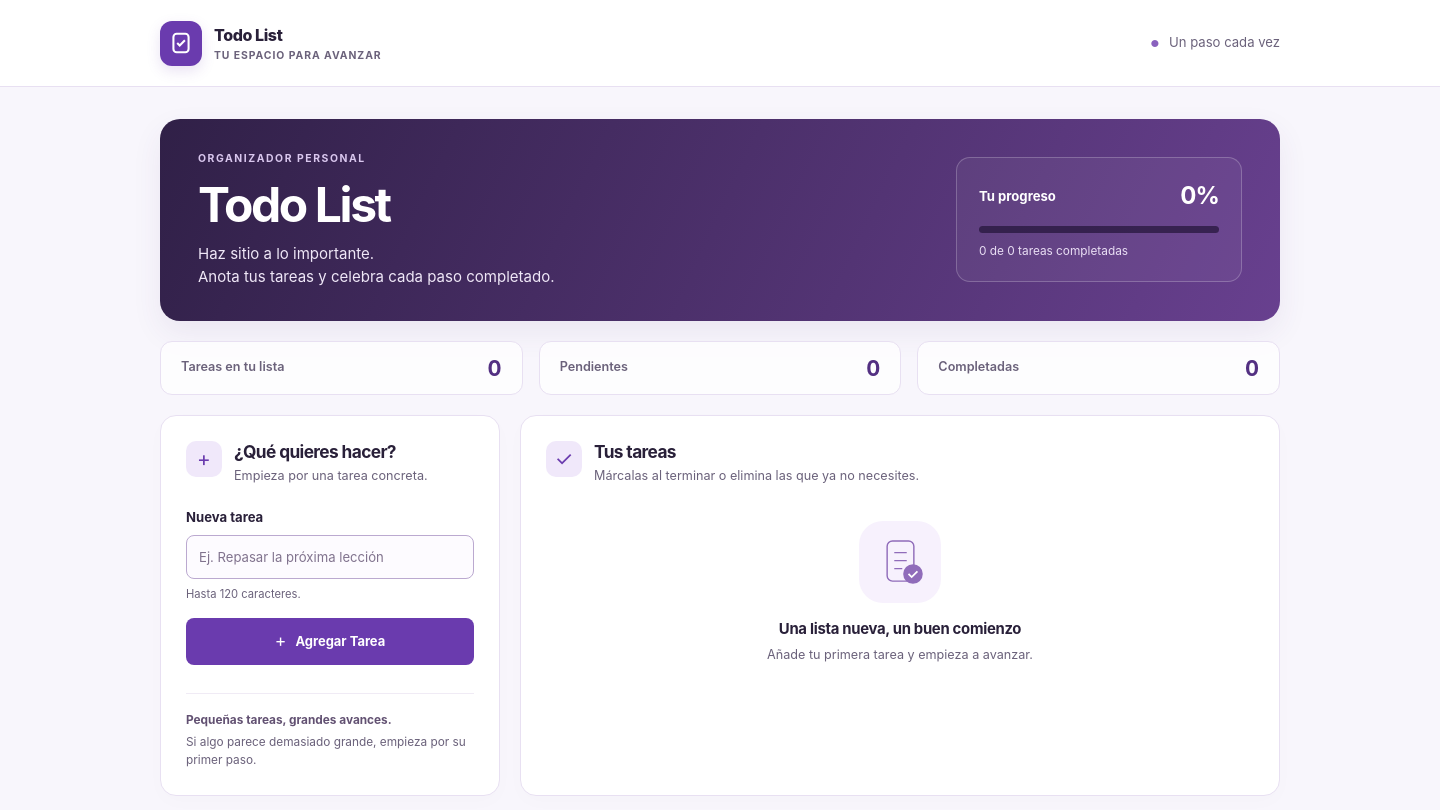
Test: TodoApp · integración entre formulario, estado y lista › completa una tarea concreta y elimina sin afectar a la otra
In the field labelled "Nueva tarea": (330, 557) [186,535,474,579], type "Primera tarea"
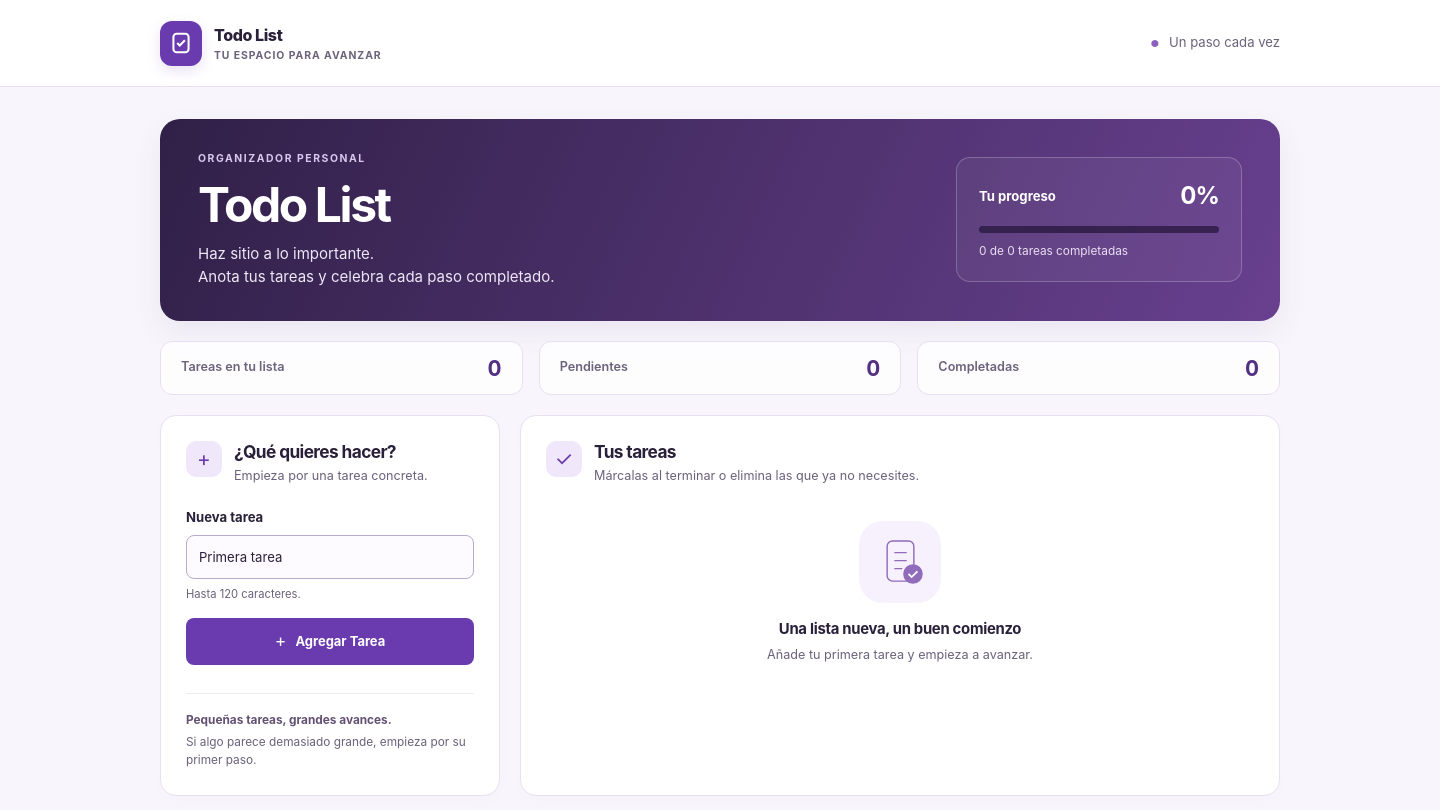
Click the button "+ Agregar Tarea": (330, 641) [186,618,474,665]
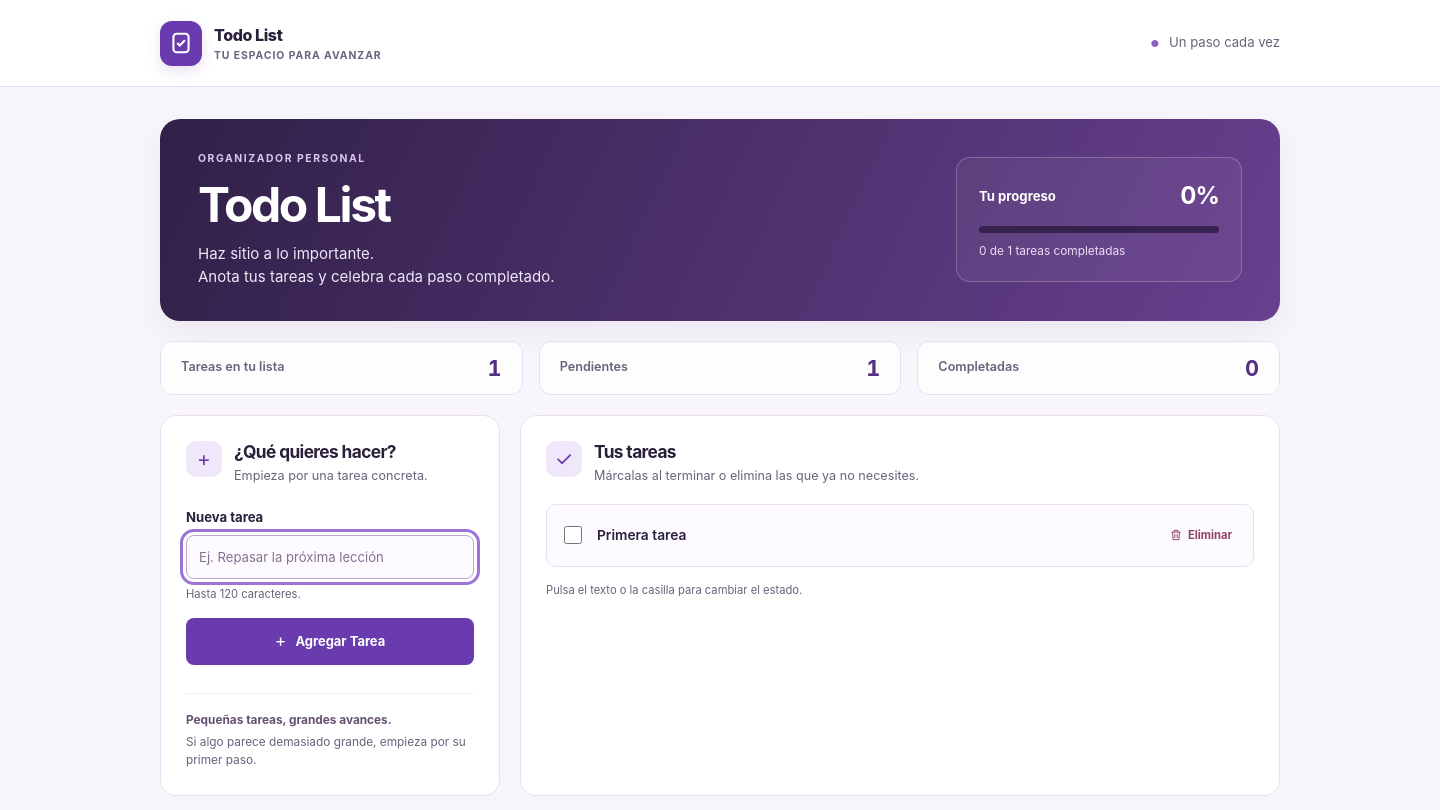
In the field labelled "Nueva tarea": (330, 557) [186,535,474,579], type "Segunda tarea"
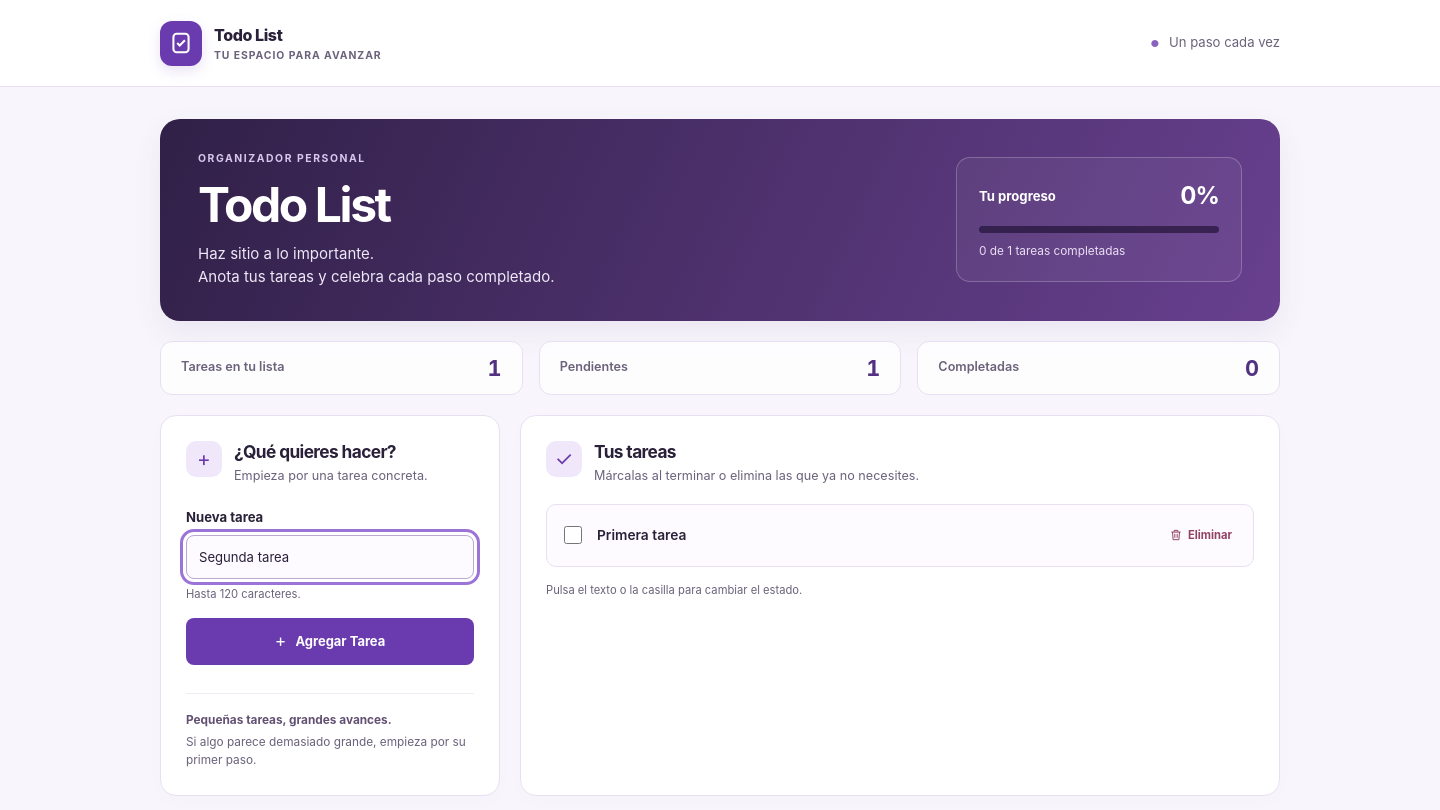
Click the button "+ Agregar Tarea": (330, 641) [186,618,474,665]
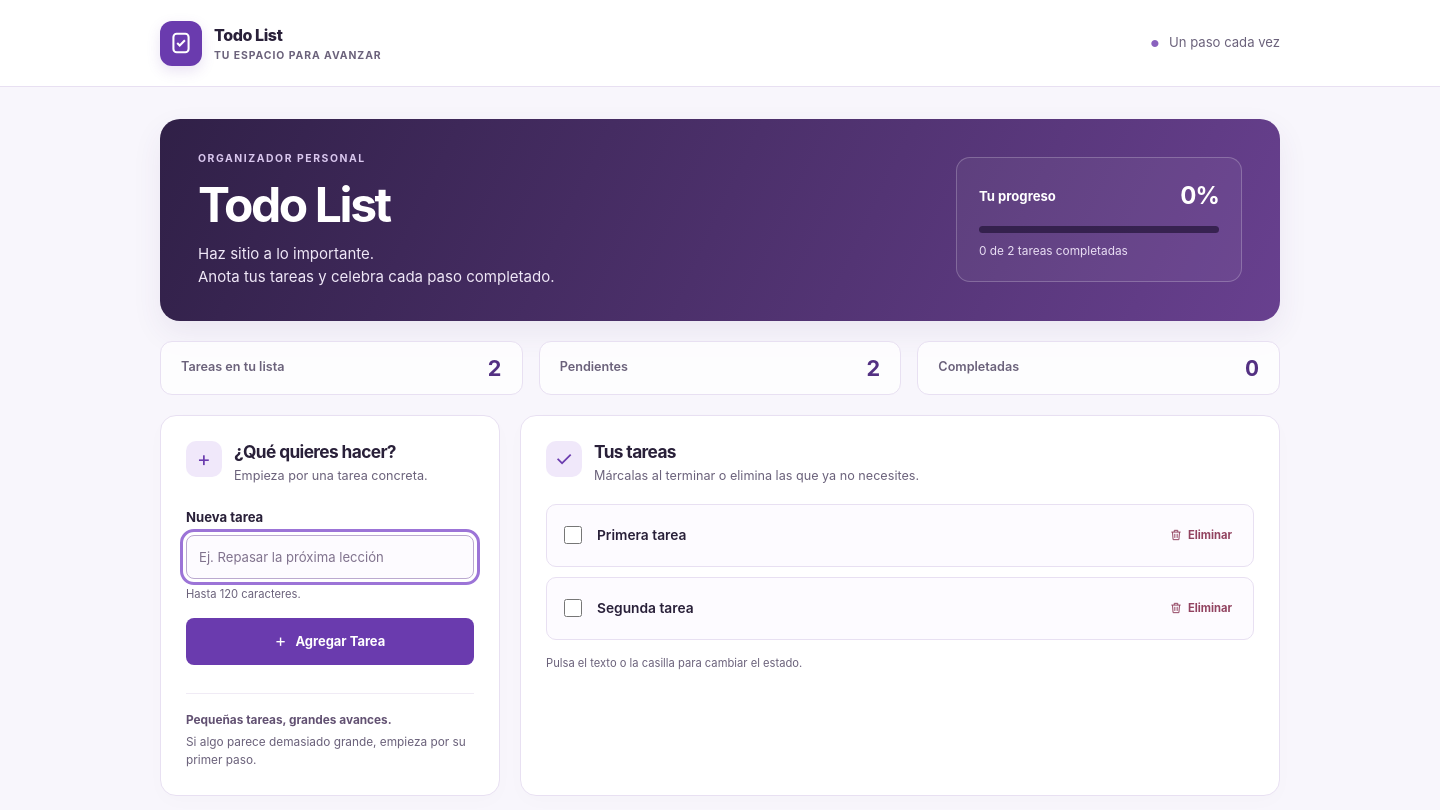
Click the checkbox named "Completar: Primera tarea": (573, 535) [564,526,582,544]
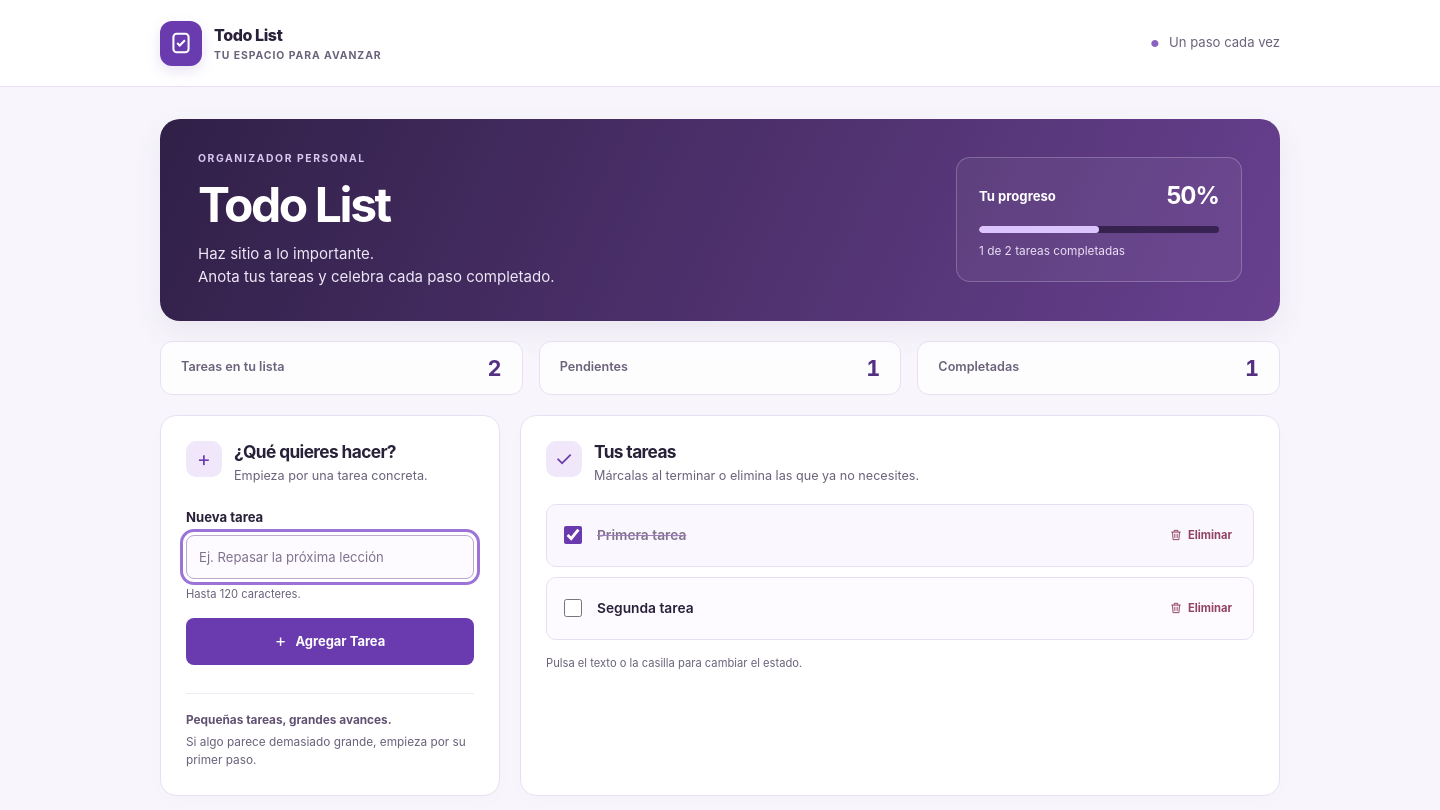
Result: the text "Primera tarea" has class "completed" at [597,525,686,546]
Result: the checkbox named "Reabrir: Primera tarea" is checked at [564,526,582,544]
Click the button with aria-label "Eliminar: Primera tarea": (1200, 535) [1161,519,1240,551]
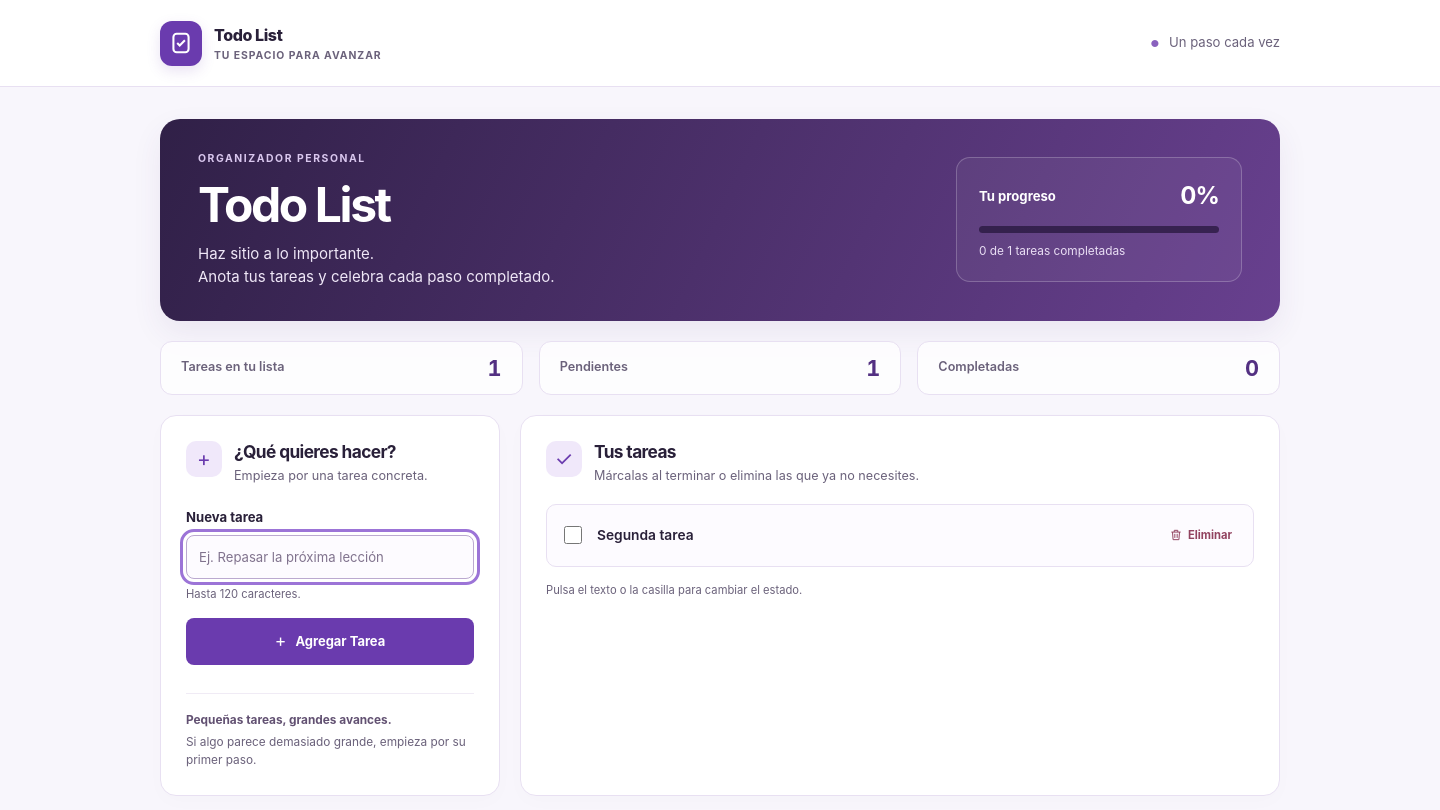
Result: the text "Segunda tarea" is shown at [597,525,694,546]
Result: the text "Primera tarea" is gone
